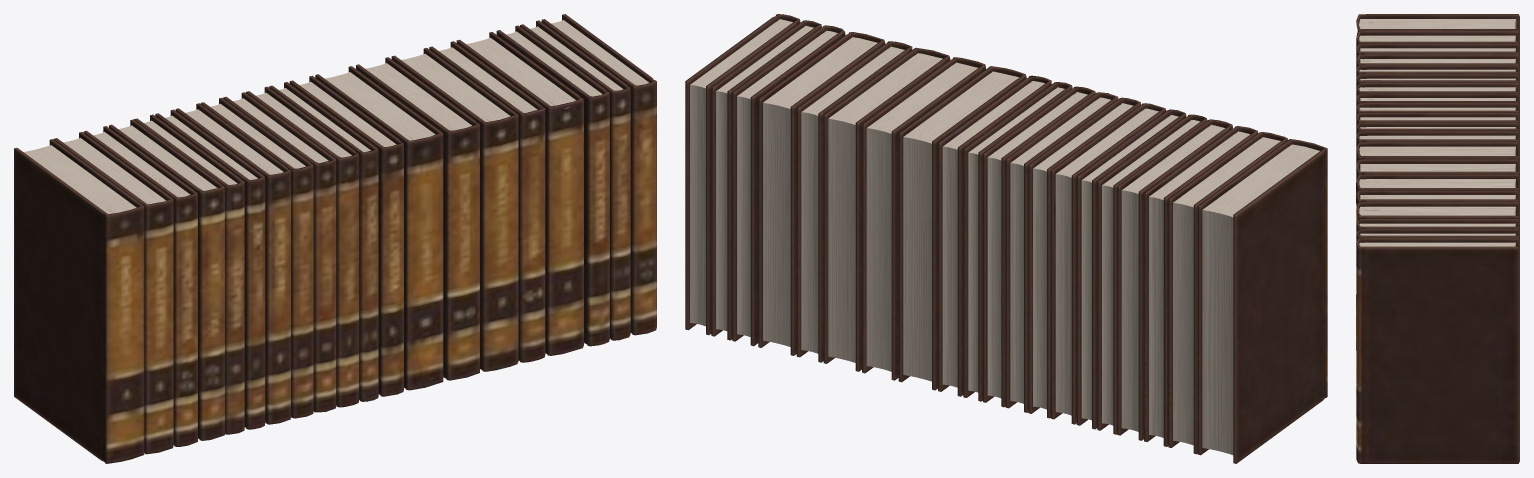
The model's file is book_encyclopedia_set_01.lod1.glb.
The picture shows the model from 3 angles, left to right: view 1: azimuth 30°, elevation 25°; view 2: azimuth 150°, elevation 25°; view 3: azimuth 270°, elevation 25°; orthographic projection. The views are drawn at different scales.
Visible parts, largest first — view 1: book_encyclopedia_set_01_book01, book_encyclopedia_set_01_book13, book_encyclopedia_set_01_book15, book_encyclopedia_set_01_book17, book_encyclopedia_set_01_book14, book_encyclopedia_set_01_book02, book_encyclopedia_set_01_book16, book_encyclopedia_set_01_book04, book_encyclopedia_set_01_book20, book_encyclopedia_set_01_book18, book_encyclopedia_set_01_book07, book_encyclopedia_set_01_book12 (+8 smaller); view 2: book_encyclopedia_set_01_book01, book_encyclopedia_set_01_book13, book_encyclopedia_set_01_book15, book_encyclopedia_set_01_book17, book_encyclopedia_set_01_book14, book_encyclopedia_set_01_book02, book_encyclopedia_set_01_book16, book_encyclopedia_set_01_book04, book_encyclopedia_set_01_book18, book_encyclopedia_set_01_book20, book_encyclopedia_set_01_book07, book_encyclopedia_set_01_book12 (+8 smaller); view 3: book_encyclopedia_set_01_book20, book_encyclopedia_set_01_book13, book_encyclopedia_set_01_book01, book_encyclopedia_set_01_book17, book_encyclopedia_set_01_book15, book_encyclopedia_set_01_book14, book_encyclopedia_set_01_book02, book_encyclopedia_set_01_book03, book_encyclopedia_set_01_book16, book_encyclopedia_set_01_book12, book_encyclopedia_set_01_book04, book_encyclopedia_set_01_book07 (+8 smaller).
Part boxes in pixels (x1=…): book_encyclopedia_set_01_book01: x1=14, y1=139, x2=144, y2=463; book_encyclopedia_set_01_book13: x1=315, y1=66, x2=443, y2=390; book_encyclopedia_set_01_book15: x1=391, y1=48, x2=518, y2=371; book_encyclopedia_set_01_book17: x1=456, y1=32, x2=583, y2=355; book_encyclopedia_set_01_book14: x1=356, y1=57, x2=479, y2=380; book_encyclopedia_set_01_book02: x1=53, y1=132, x2=173, y2=454; book_encyclopedia_set_01_book16: x1=429, y1=41, x2=545, y2=362; book_encyclopedia_set_01_book04: x1=109, y1=119, x2=224, y2=440; book_encyclopedia_set_01_book20: x1=541, y1=14, x2=656, y2=335; book_encyclopedia_set_01_book18: x1=496, y1=25, x2=609, y2=346; book_encyclopedia_set_01_book07: x1=175, y1=103, x2=290, y2=424; book_encyclopedia_set_01_book12: x1=289, y1=75, x2=403, y2=396; book_encyclopedia_set_01_book01: x1=1197, y1=139, x2=1327, y2=463; book_encyclopedia_set_01_book13: x1=898, y1=66, x2=1026, y2=390; book_encyclopedia_set_01_book15: x1=823, y1=47, x2=950, y2=371; book_encyclopedia_set_01_book17: x1=758, y1=32, x2=885, y2=355; book_encyclopedia_set_01_book14: x1=862, y1=57, x2=985, y2=380; book_encyclopedia_set_01_book02: x1=1168, y1=132, x2=1287, y2=454; book_encyclopedia_set_01_book16: x1=796, y1=41, x2=912, y2=362; book_encyclopedia_set_01_book04: x1=1117, y1=119, x2=1232, y2=440; book_encyclopedia_set_01_book18: x1=732, y1=25, x2=845, y2=346; book_encyclopedia_set_01_book20: x1=685, y1=14, x2=800, y2=335; book_encyclopedia_set_01_book07: x1=1051, y1=103, x2=1166, y2=424; book_encyclopedia_set_01_book12: x1=938, y1=75, x2=1051, y2=396; book_encyclopedia_set_01_book20: x1=1356, y1=238, x2=1519, y2=463; book_encyclopedia_set_01_book13: x1=1356, y1=142, x2=1519, y2=162; book_encyclopedia_set_01_book01: x1=1356, y1=14, x2=1519, y2=32; book_encyclopedia_set_01_book17: x1=1356, y1=202, x2=1519, y2=220; book_encyclopedia_set_01_book15: x1=1356, y1=174, x2=1519, y2=222; book_encyclopedia_set_01_book14: x1=1356, y1=159, x2=1519, y2=180; book_encyclopedia_set_01_book02: x1=1356, y1=30, x2=1519, y2=46; book_encyclopedia_set_01_book03: x1=1356, y1=43, x2=1519, y2=57; book_encyclopedia_set_01_book16: x1=1356, y1=190, x2=1519, y2=203; book_encyclopedia_set_01_book12: x1=1356, y1=131, x2=1519, y2=350; book_encyclopedia_set_01_book04: x1=1356, y1=54, x2=1519, y2=67; book_encyclopedia_set_01_book07: x1=1356, y1=82, x2=1519, y2=300.
Bounding box in the file's own units: 0.5513 × 0.2374 × 0.1631.
Materials: 2 (2 with a texture image).
